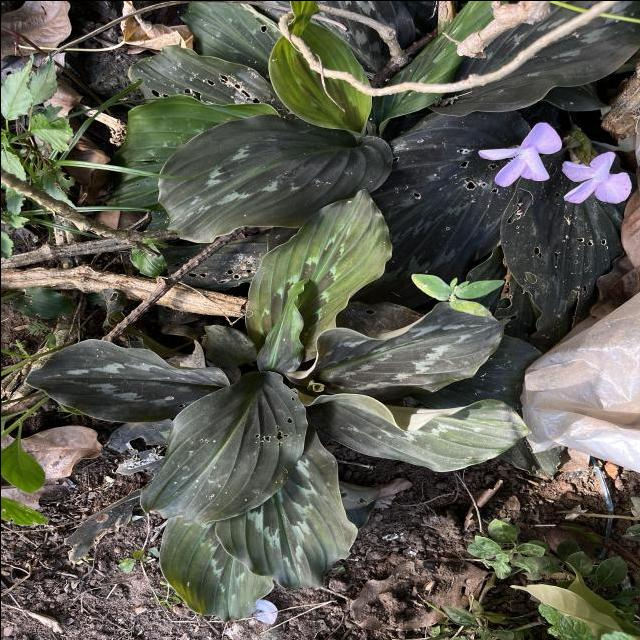Kaempferia galanga linn: (154, 110, 396, 244), (138, 368, 311, 526), (240, 186, 394, 352), (287, 301, 510, 394), (300, 390, 534, 474), (24, 334, 229, 424)
